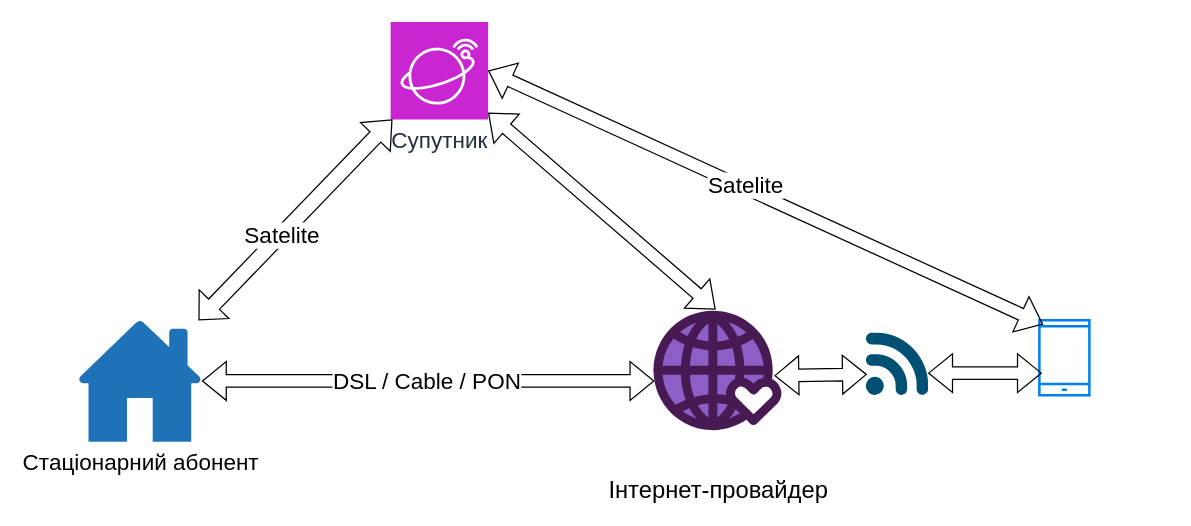
Image size: 1191x526. Some labels were removed from this diagram. The shapes that lost their labels are listed below. From the top down, each one's centre as x and y in pixels, then its label:
(x=896, y=363): 4G / 5G
(x=1064, y=357): Мобільний Абонент
